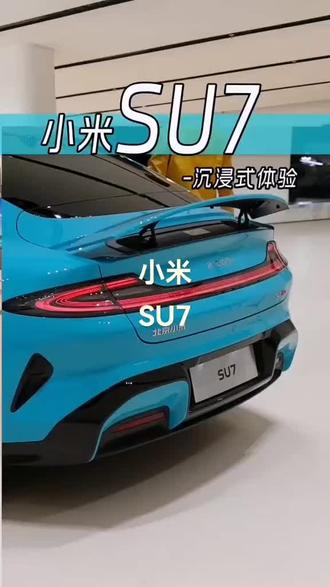su7: (0, 140, 303, 489)
